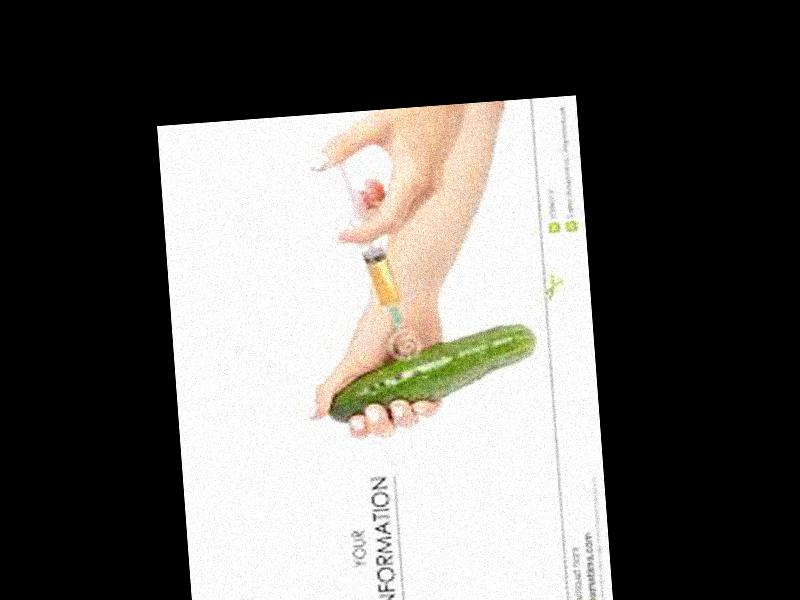Cucumber: (323, 323, 541, 423)
